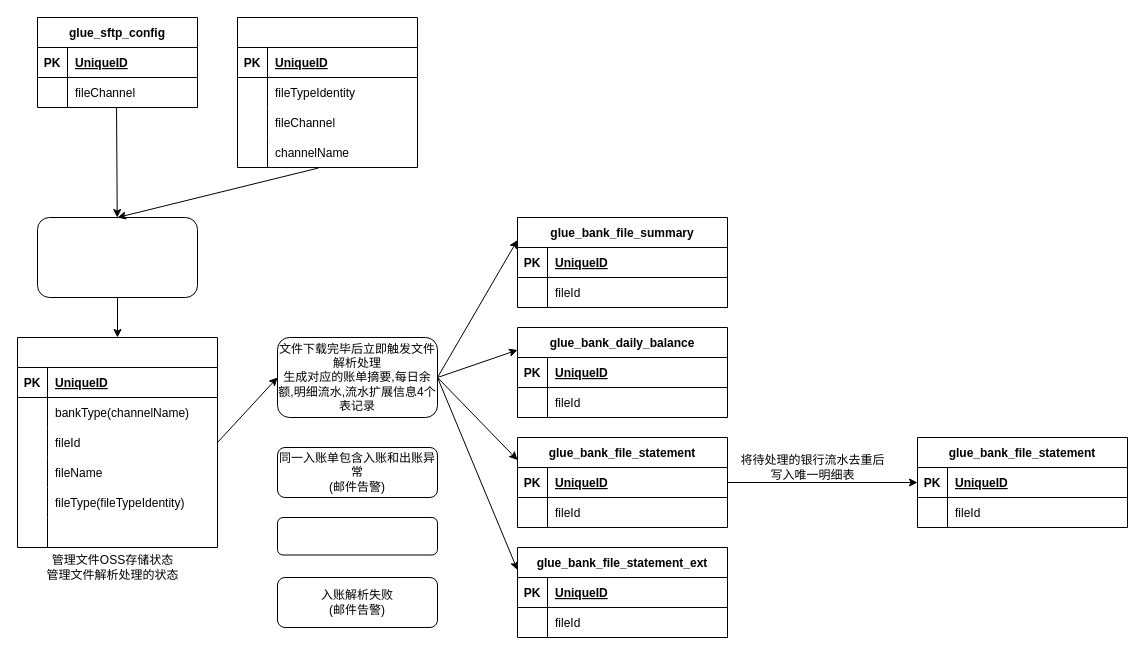
Image size: 1145x655. Some labels were removed from this diagram. The shapes that lost their labels are listed below. From the top down, each one's box as (x1, y1, x2, y2) in pixels, then its label:
(236, 16, 418, 168): glue_file_analysis_config
(36, 216, 198, 298): 通过SFTP连接获取对应的未处理文件 保存到本地 上传到OSS 新增数据库记录
(16, 336, 218, 548): glue_bank_file_record
(276, 516, 438, 555): 处理账单信息的风控 (邮件告警)
